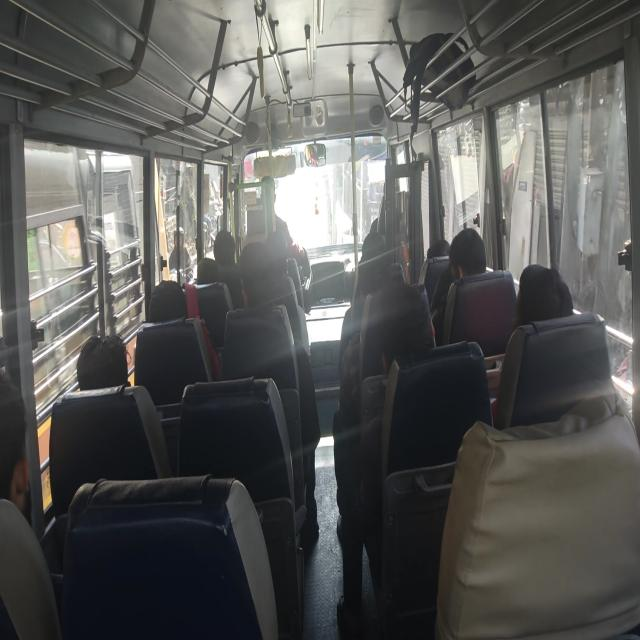person: (377, 277, 442, 374), (1, 370, 37, 520), (518, 252, 576, 339), (75, 330, 134, 384), (238, 242, 280, 310), (146, 273, 198, 323), (452, 218, 488, 287), (359, 247, 399, 300), (208, 226, 242, 264), (263, 230, 293, 269), (256, 168, 282, 210), (194, 256, 227, 288), (375, 171, 406, 204), (359, 228, 388, 256), (425, 242, 453, 268)
